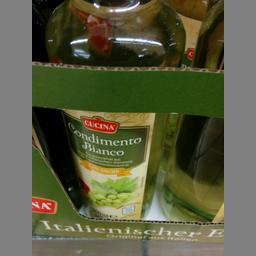vinegar: (47, 0, 185, 229)
